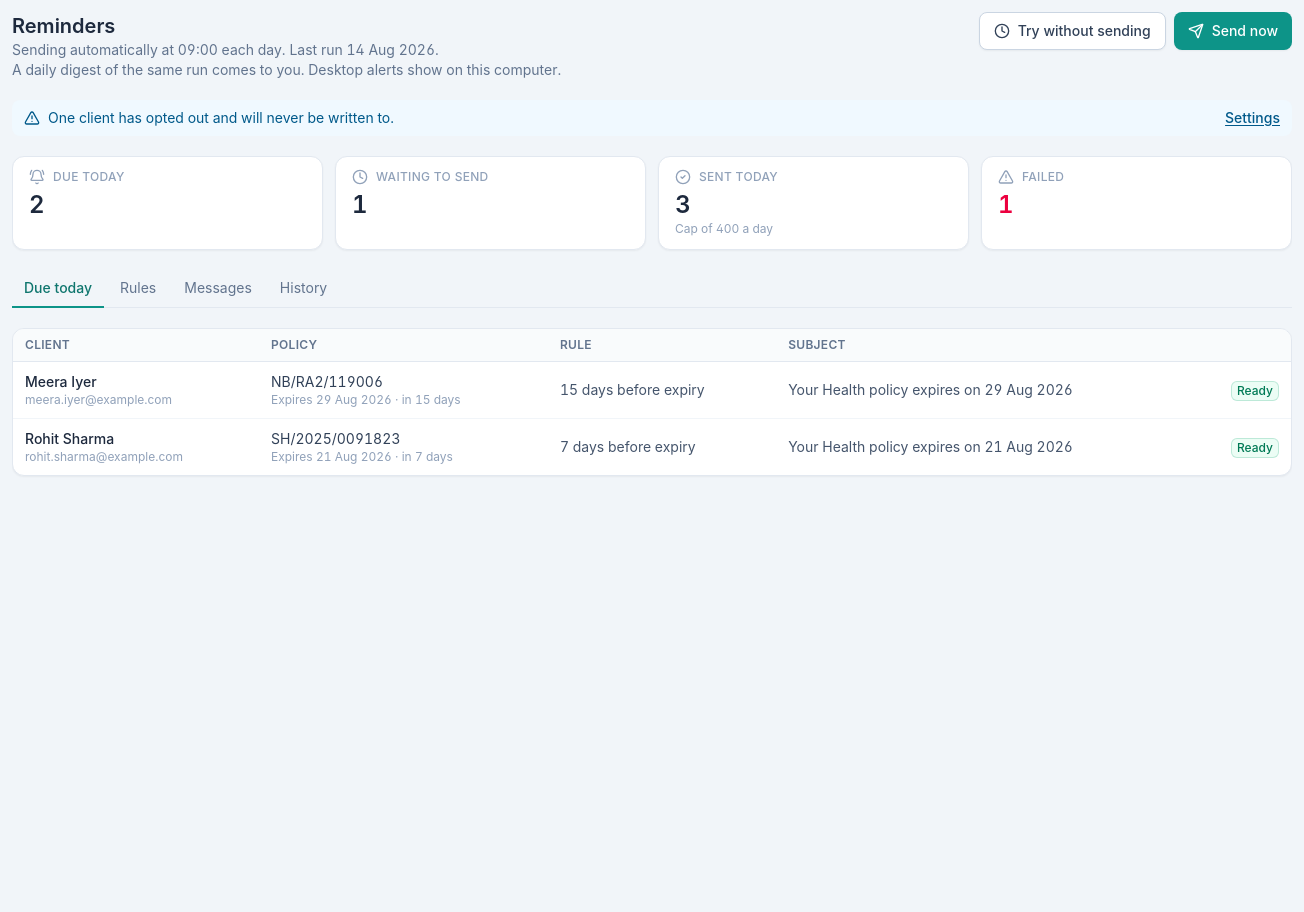
Test: running a sweep › tries the run without sending anything
The image size is (1304, 912).
Click the button "Try without sending": (1072,31) [979, 12, 1166, 50]
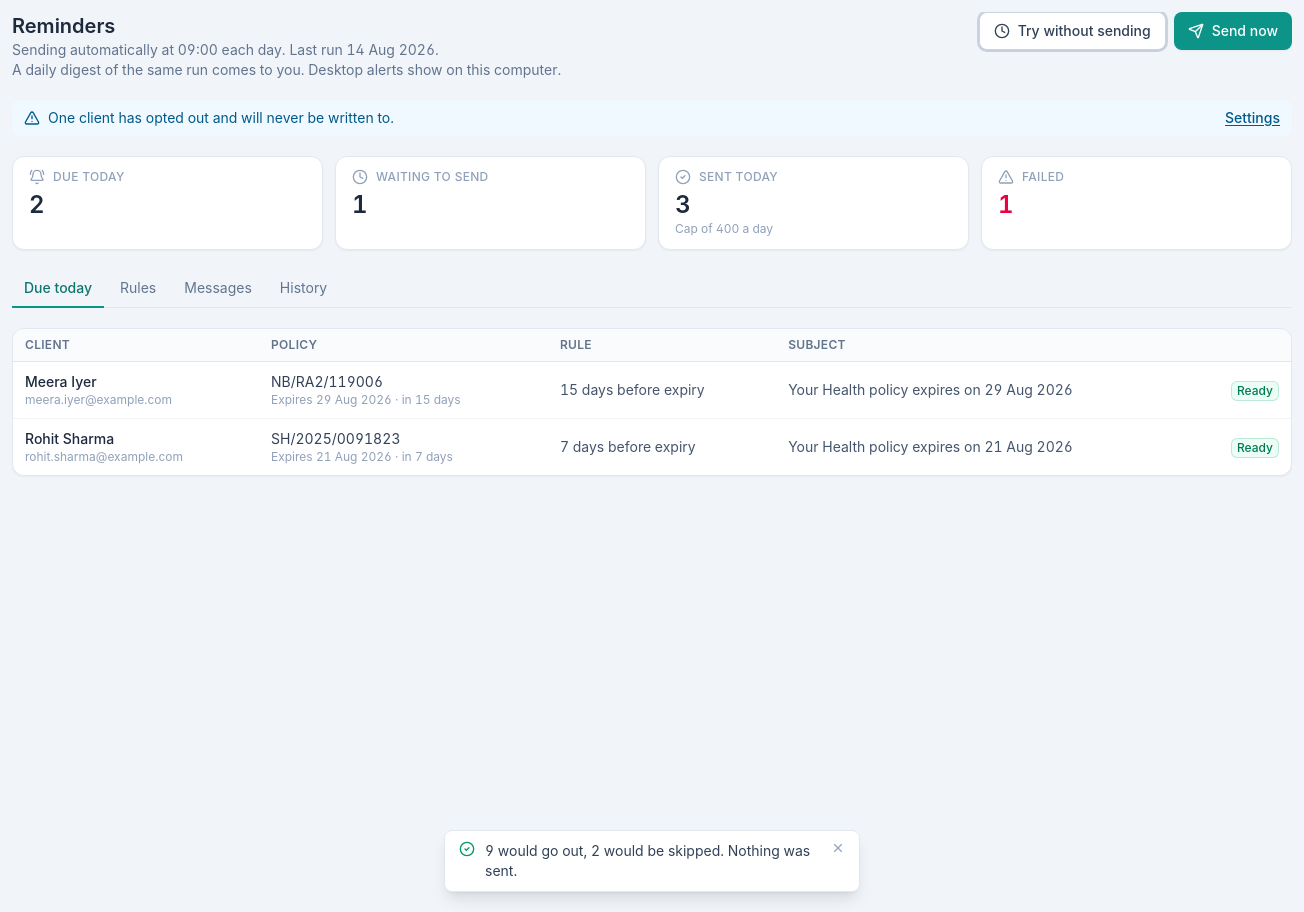
Result: the text "9 would go out, 2 would be skipped. Nothing was sent." is shown at [485, 841, 821, 881]
